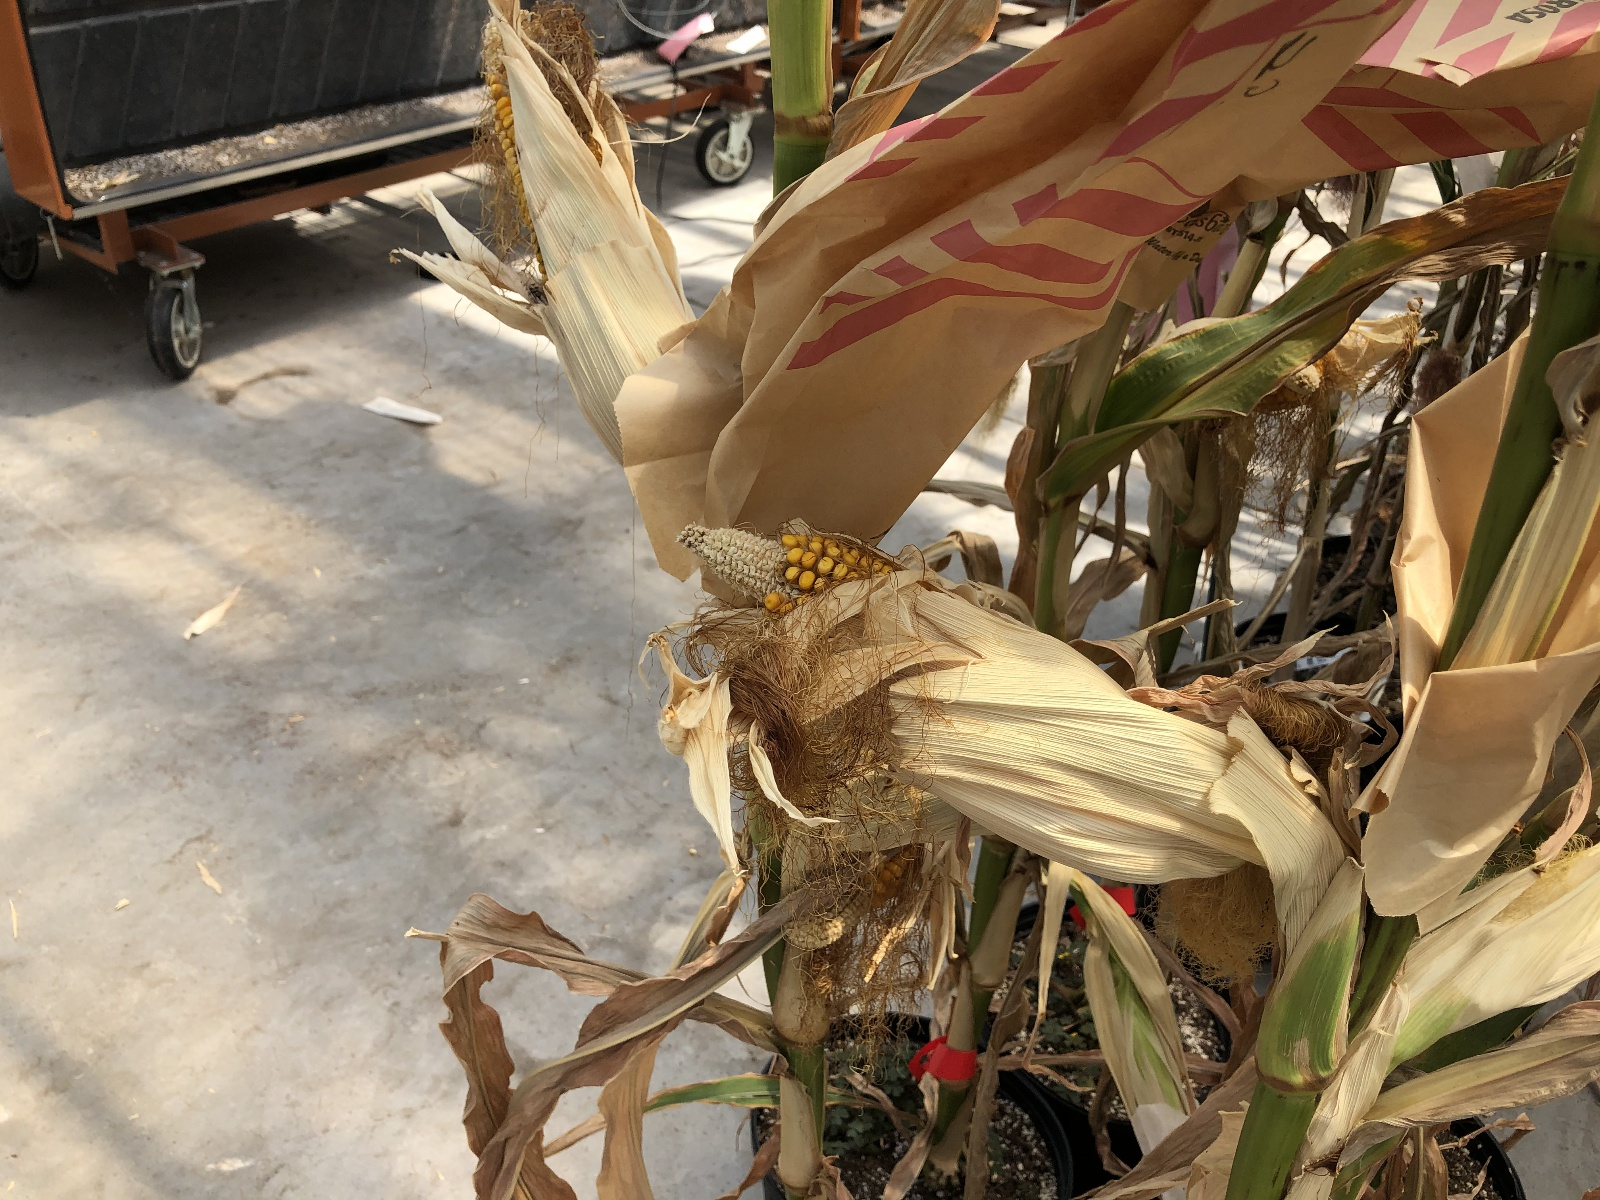ear: (677, 508, 1325, 881), (445, 8, 729, 460), (757, 846, 974, 955)
